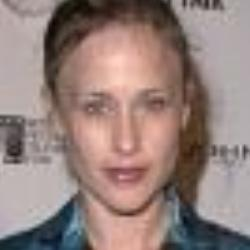face: (26, 1, 219, 218)
